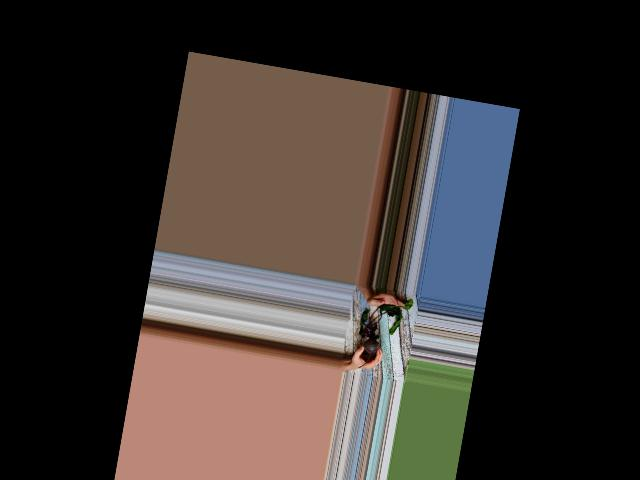beet: (353, 292, 413, 375)
